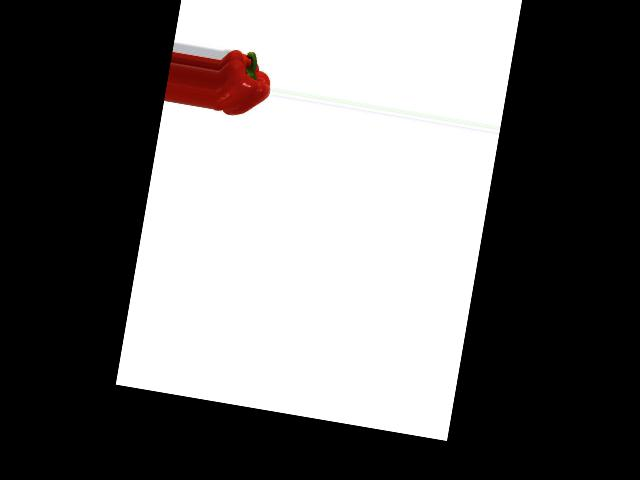bell_pepper: (210, 38, 277, 128)
